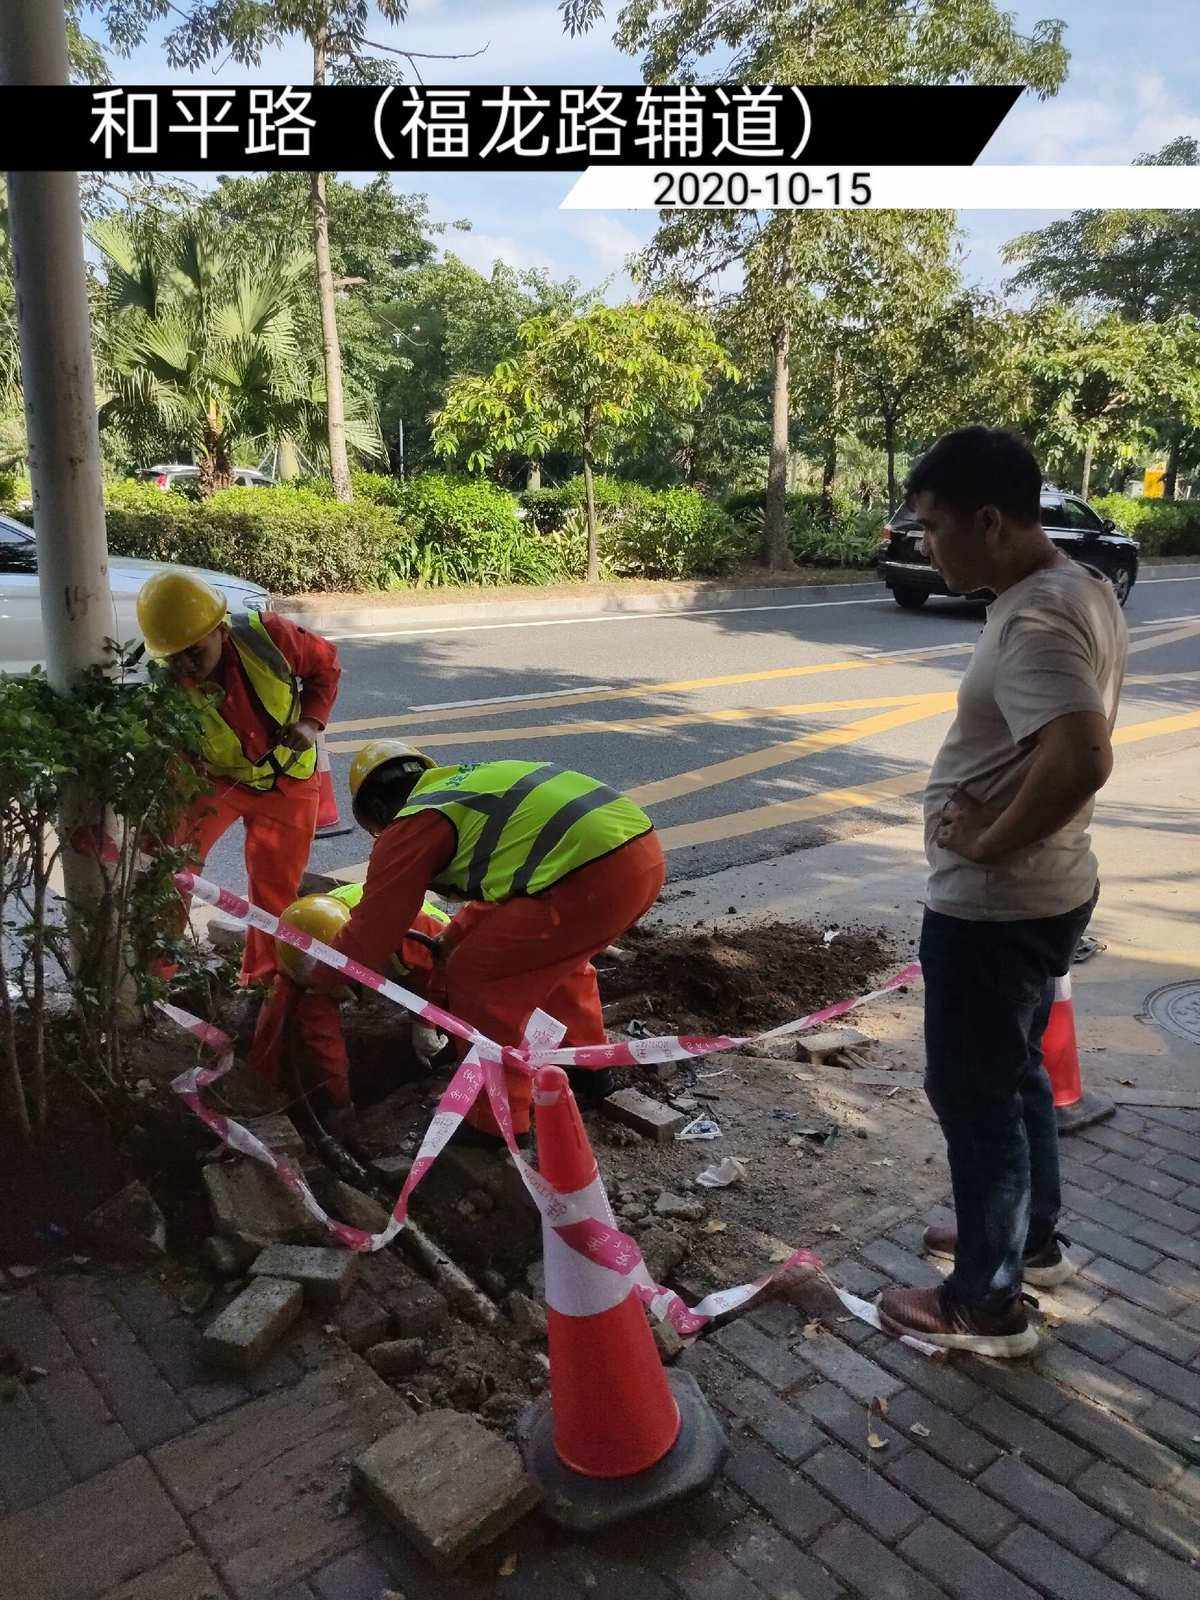head: (907, 425, 1053, 601)
ordinary_clothes: (919, 565, 1134, 926)
person: (871, 428, 1136, 1359), (343, 726, 668, 1067), (129, 562, 346, 987), (242, 876, 452, 1106)
reflective_vest: (394, 753, 656, 905), (143, 607, 323, 798)
safety_helmet: (132, 564, 231, 677), (343, 733, 438, 837), (270, 888, 353, 984)
